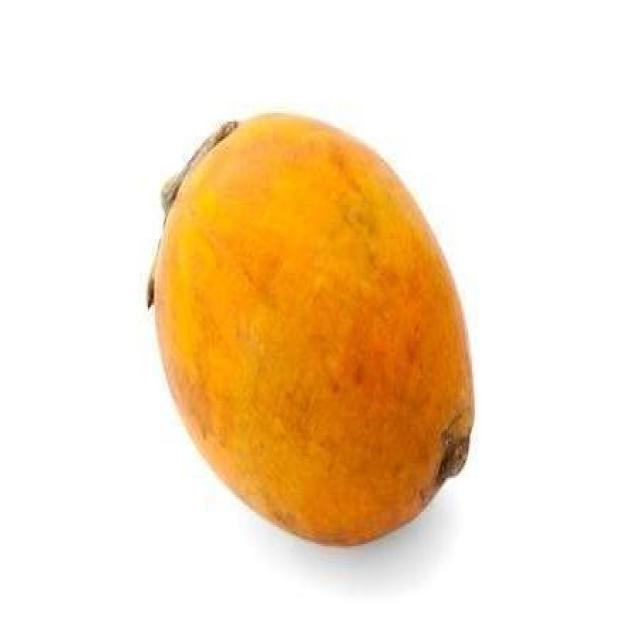good: (151, 113, 478, 550)
